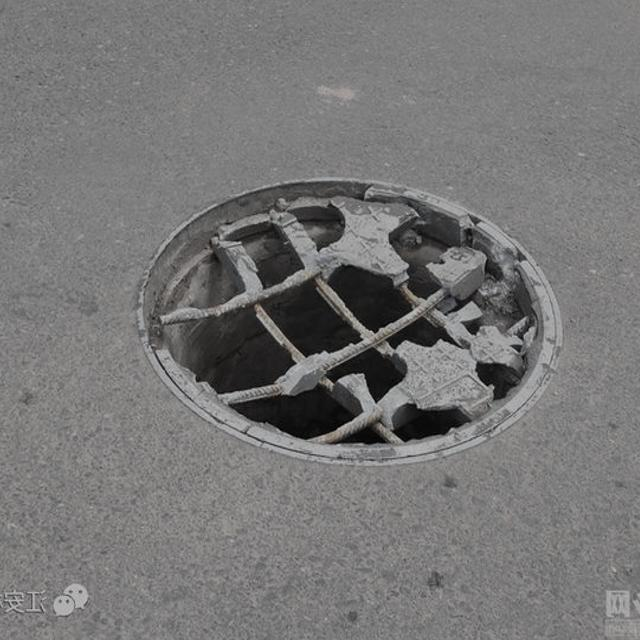broke: (136, 153, 568, 479)
